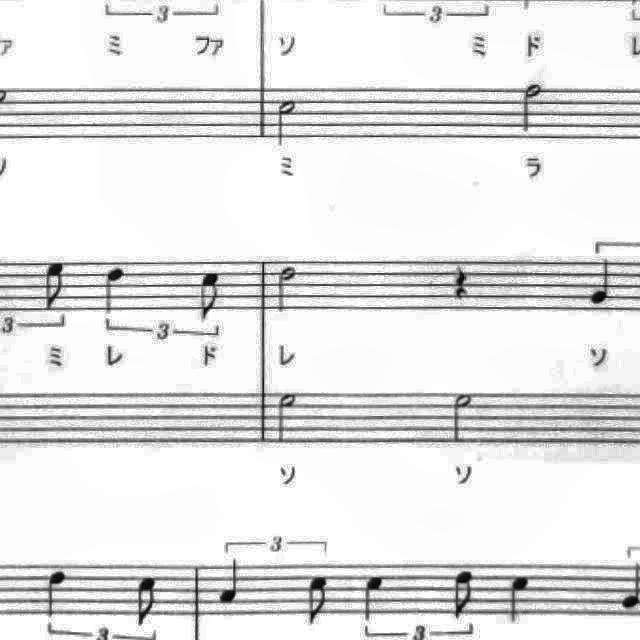Eighth-note: (445, 565, 483, 627), (128, 570, 166, 632), (193, 264, 229, 326), (299, 570, 335, 630), (38, 255, 72, 313)
Half-note: (270, 387, 306, 451), (518, 74, 554, 138), (446, 386, 480, 448), (271, 95, 305, 153), (272, 262, 302, 318)
Quarter-note: (583, 252, 621, 312), (502, 568, 538, 628), (40, 565, 76, 623), (97, 260, 131, 320), (355, 568, 389, 626), (213, 552, 247, 608), (619, 556, 640, 612), (639, 556, 640, 612)
Quarter-rest: (443, 257, 475, 307)
